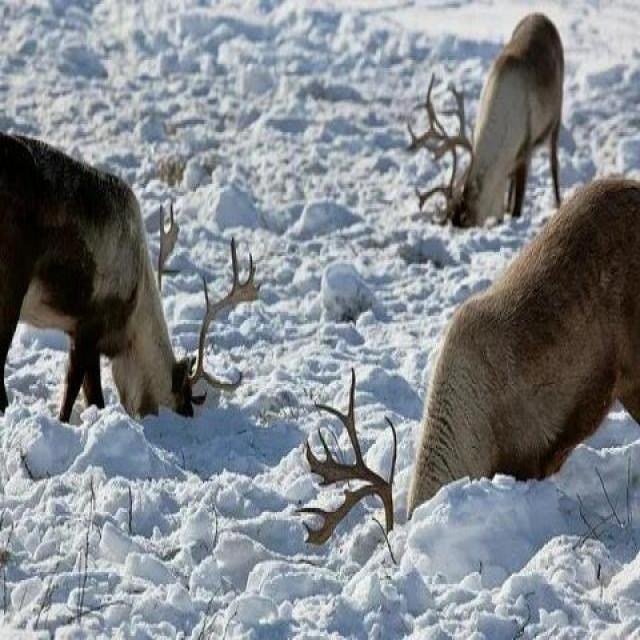deer: (335, 124, 640, 567)
